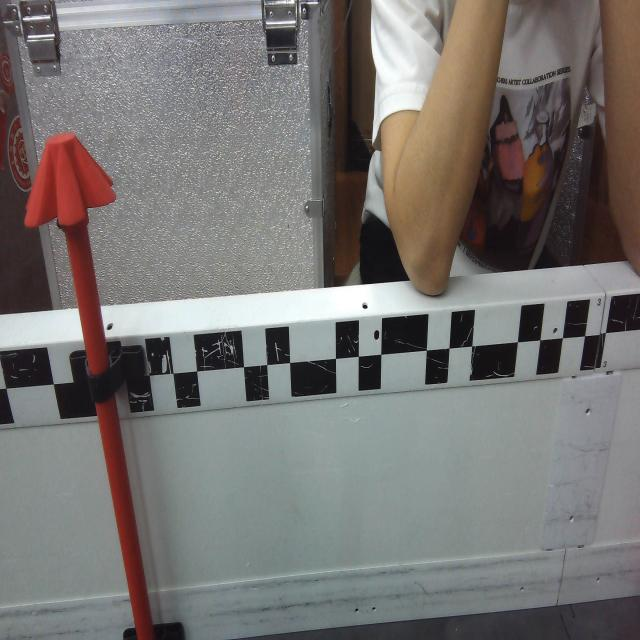zred-Stake-Head: (24, 132, 117, 225)
